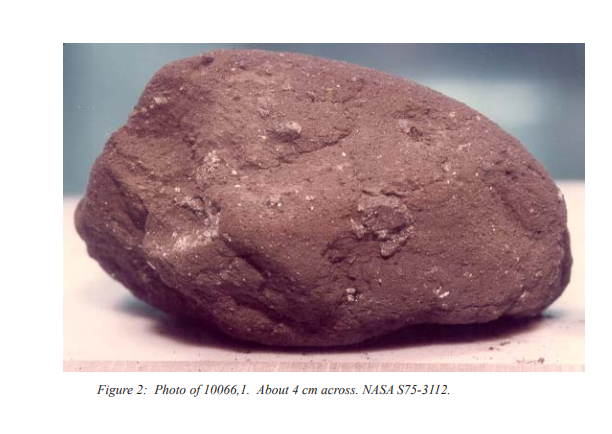Breccia: (77, 43, 571, 345)
